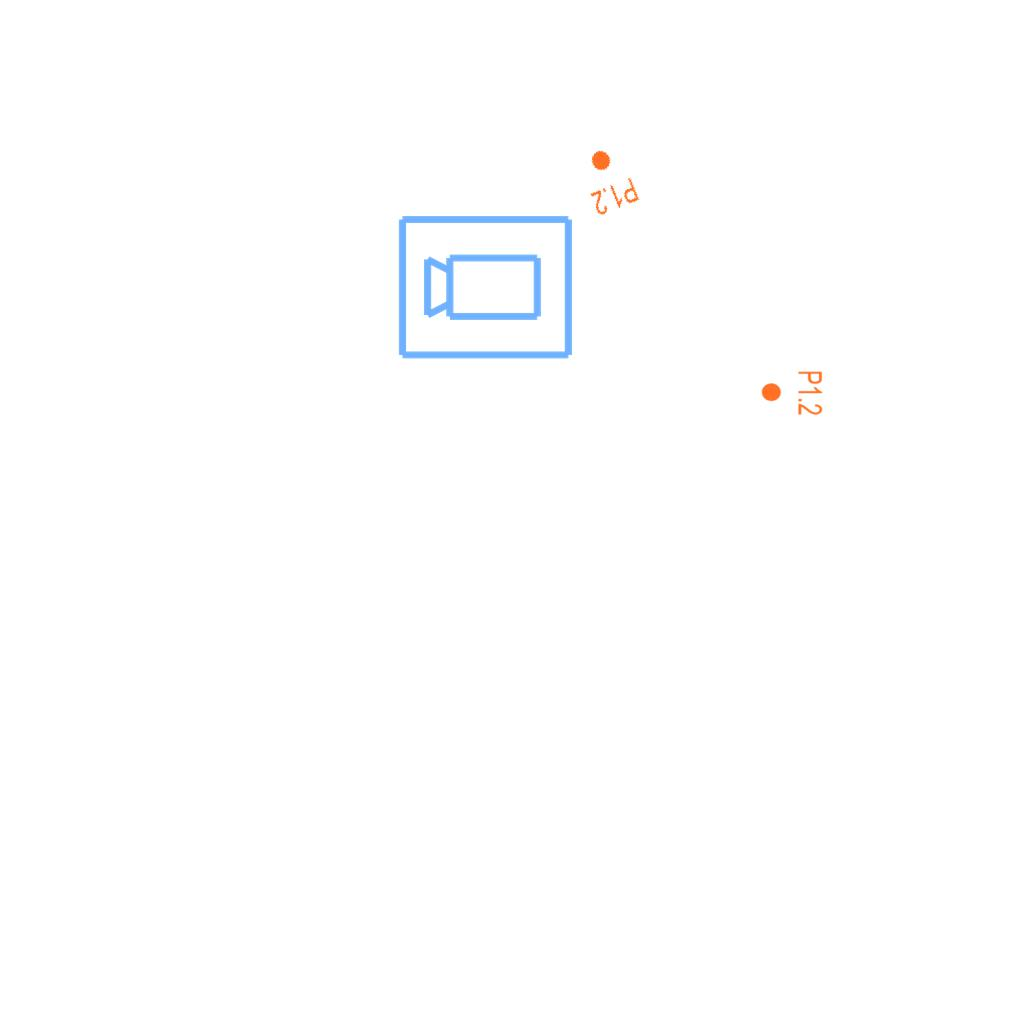Downlight_LED_Einbauleuchten_Flur: (574, 141, 642, 219), (760, 370, 824, 416)
KFO_Kamera_mit_Festobjektiv: (395, 209, 577, 363)
